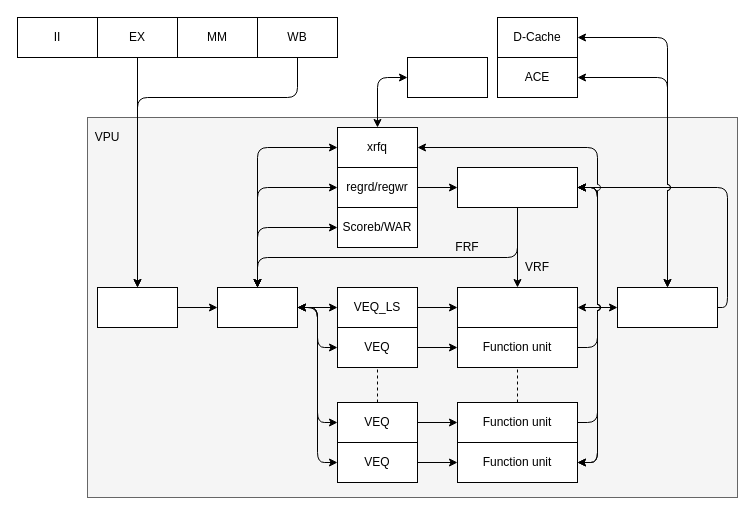
Image size: 755x515. Some labels were removed from this diagram. The box of each missing label's shape, as (x1, y1, x2, y2) in pixels:
ISSUE: (216, 286, 298, 328)
Vector Load/store FIFO: (616, 286, 718, 328)
VIQ: (96, 286, 178, 328)
VLSU: (456, 286, 578, 328)
VRF/FRF bank: (456, 166, 578, 208)
XRF: (406, 56, 488, 98)
